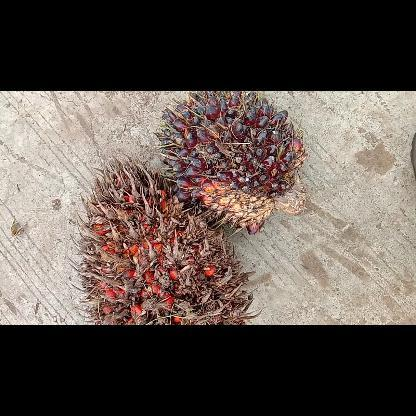TBS mentah: (154, 91, 306, 237)
Terlalu masak: (68, 154, 262, 324)
